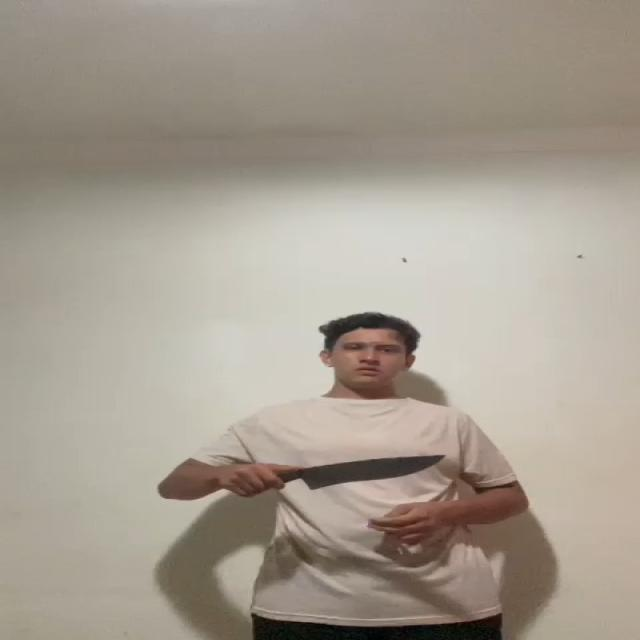knife: (298, 454, 450, 488)
